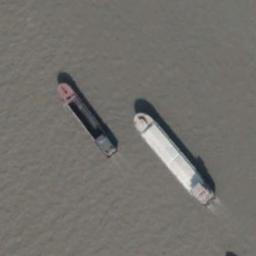boat: (131, 110, 216, 208), (54, 82, 118, 160)
